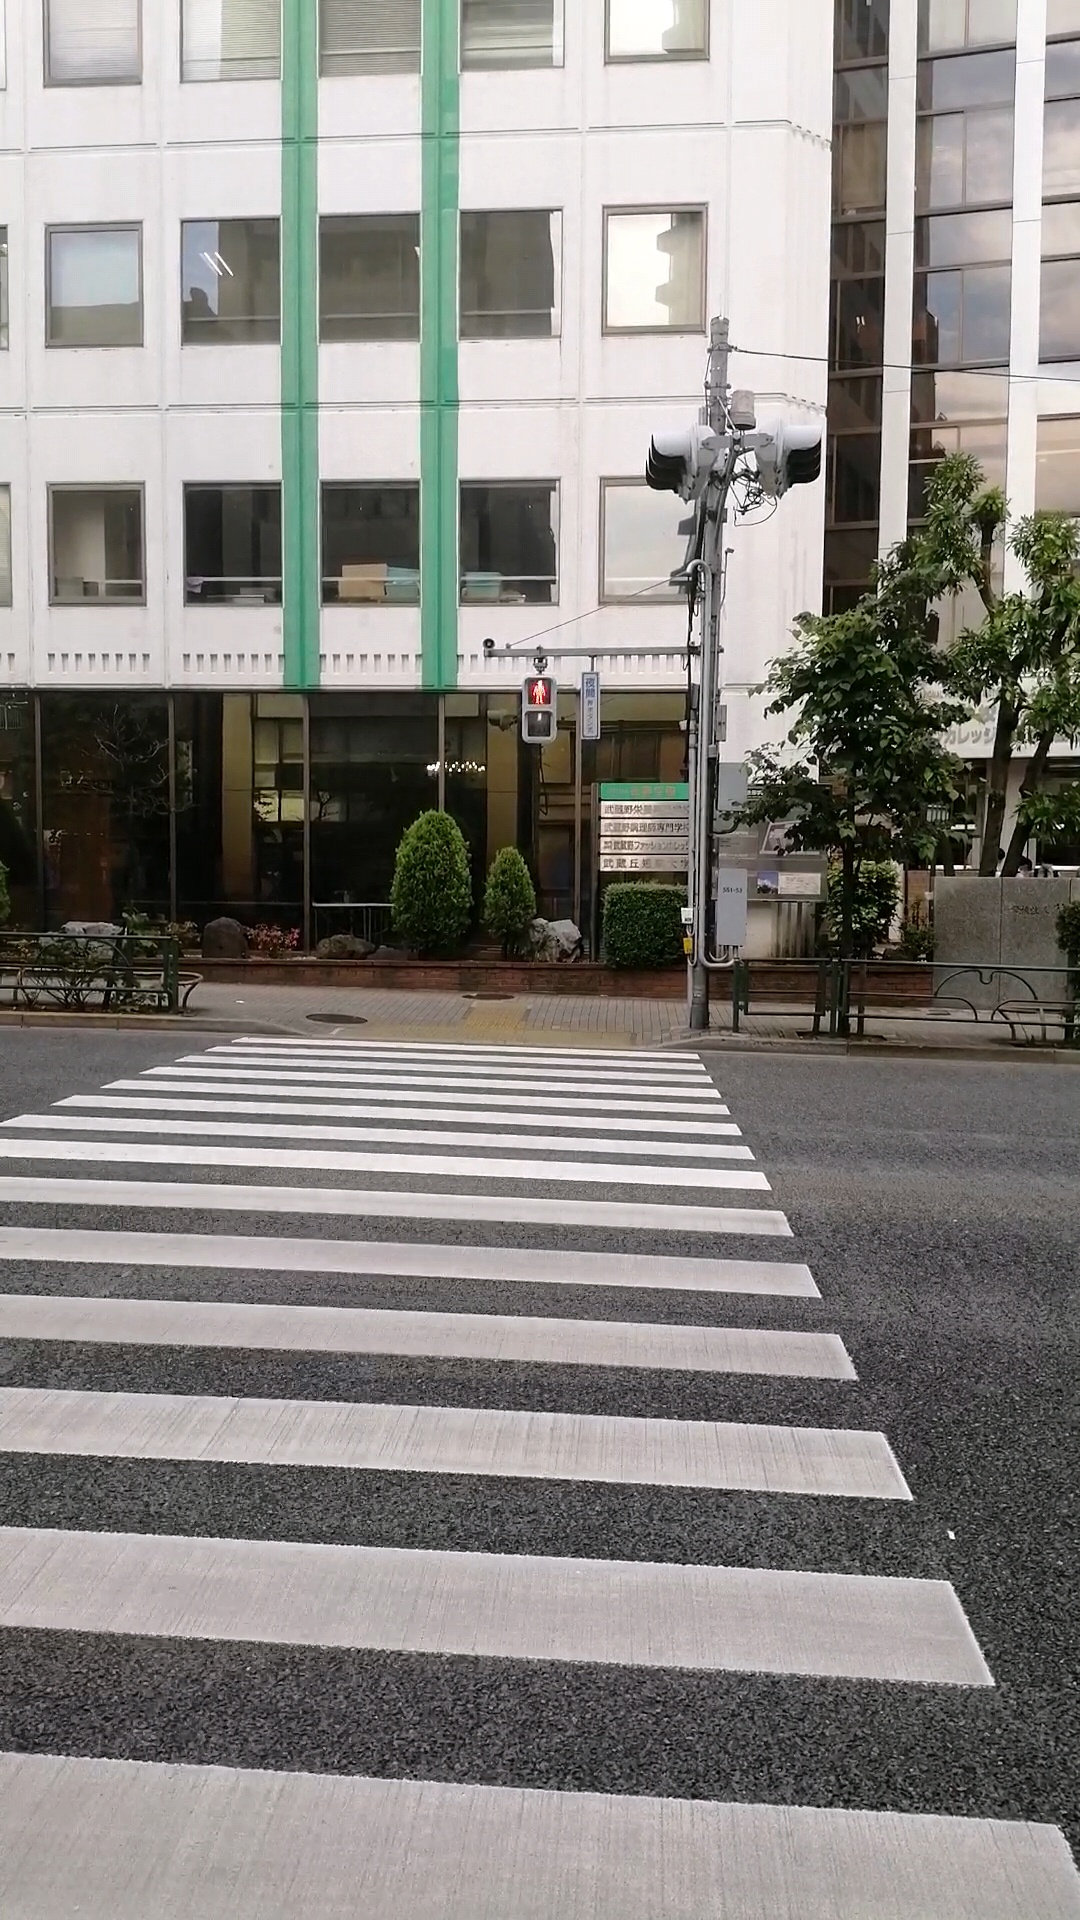red: (520, 675, 556, 742)
